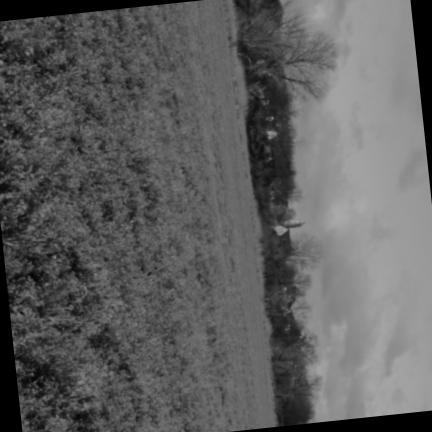Shahed: (127, 266, 167, 292)
